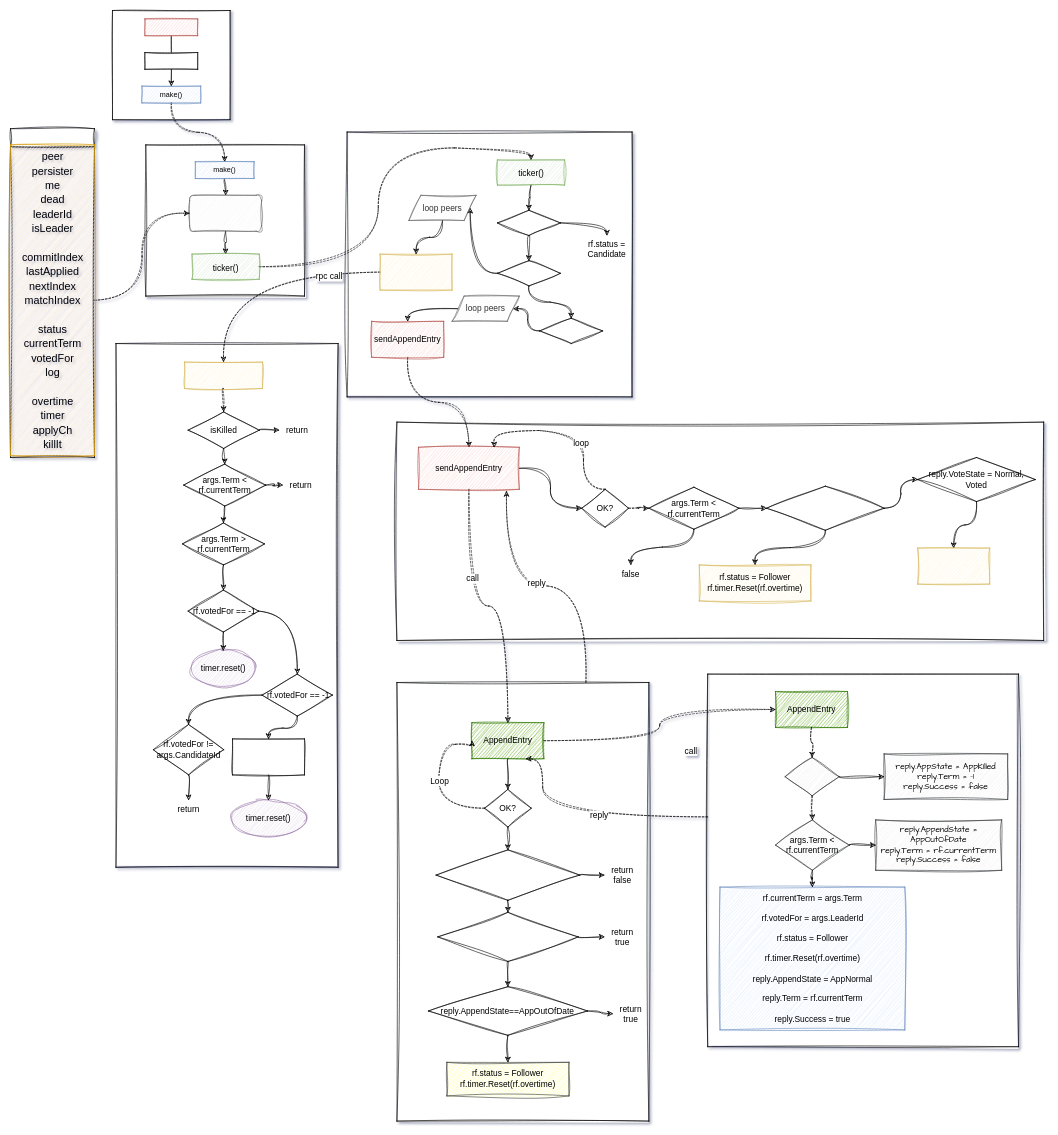
Some shapes in this 1058 by 1135 pixel diagram are drawn without their labels. The shapes that lost their labels are listed below. From the top down, each one's box as (x1, y1, x2, y2) in pixels, then its label:
(144, 18, 198, 36): kvserver
(144, 52, 198, 69): init
(189, 195, 262, 231): raft{} init
(497, 210, 560, 236): isFollower？
(380, 254, 452, 290): sendRequestVote
(497, 260, 560, 286): isCandidate?
(10, 128, 94, 458): Raft
(539, 318, 603, 344): isLeader?
(184, 362, 262, 388): RequestVote
(766, 486, 884, 530): reply.VoteState = Expire
(917, 548, 990, 584): count vote nums
(232, 738, 304, 775): rf.status = Follower
(784, 757, 839, 796): rf.killed()
(435, 849, 580, 900): reply.AppendState==Appkilled
(437, 912, 578, 962): reply.AppendState==AppNormal
